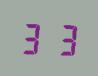three: (19, 18, 47, 55), (48, 19, 76, 56)
